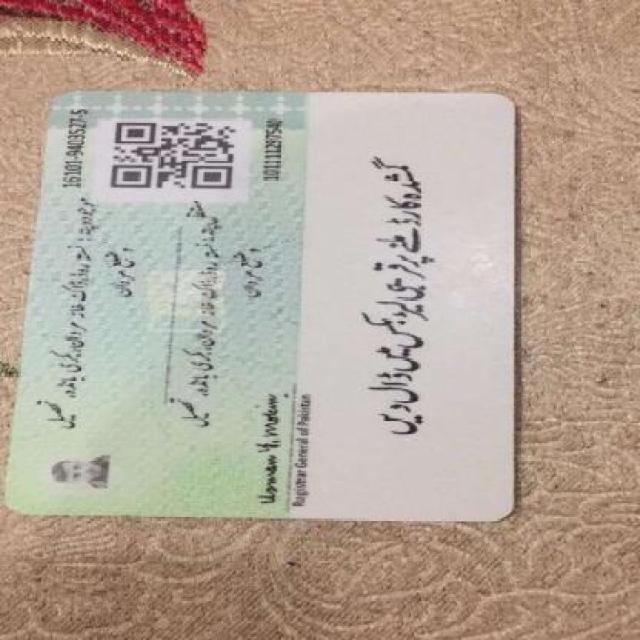Back: (19, 90, 538, 536)
